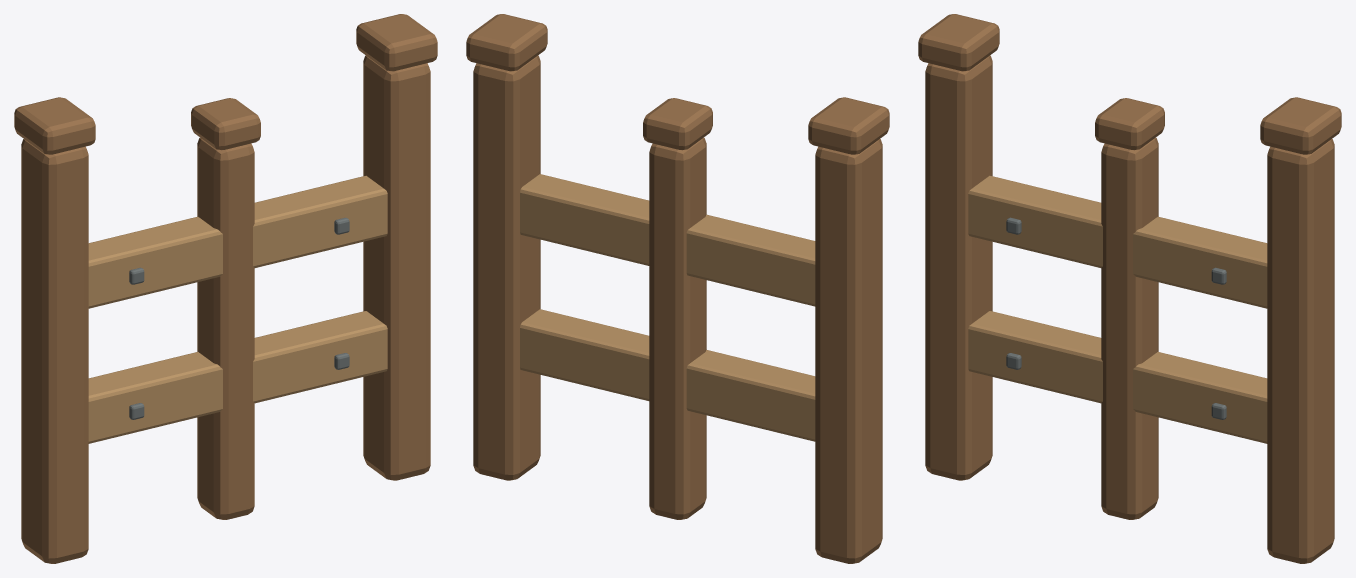
The model's file is cerca_reta.glb.
The picture shows the model from 3 angles, left to right: view 1: azimuth 30°, elevation 25°; view 2: azimuth 150°, elevation 25°; view 3: azimuth 330°, elevation 25°; orthographic projection.
Parts seen in each view (by area): view 1: cerca_reta | Madeira de carvalho, cerca_reta | Tábuas de madeira, cerca_reta | Ferro envelhecido; view 2: cerca_reta | Madeira de carvalho, cerca_reta | Tábuas de madeira; view 3: cerca_reta | Madeira de carvalho, cerca_reta | Tábuas de madeira, cerca_reta | Ferro envelhecido.
Boxes of the visible parts, x1,y1,x2,y2 form: cerca_reta | Madeira de carvalho: (14, 14, 437, 563); cerca_reta | Tábuas de madeira: (88, 175, 387, 443); cerca_reta | Ferro envelhecido: (129, 217, 349, 419); cerca_reta | Madeira de carvalho: (466, 14, 889, 563); cerca_reta | Tábuas de madeira: (520, 174, 815, 441); cerca_reta | Madeira de carvalho: (918, 14, 1341, 563); cerca_reta | Tábuas de madeira: (968, 175, 1267, 443); cerca_reta | Ferro envelhecido: (1006, 217, 1226, 419).
Bounding box in the file's own units: 1.04 × 1.11 × 0.161.
